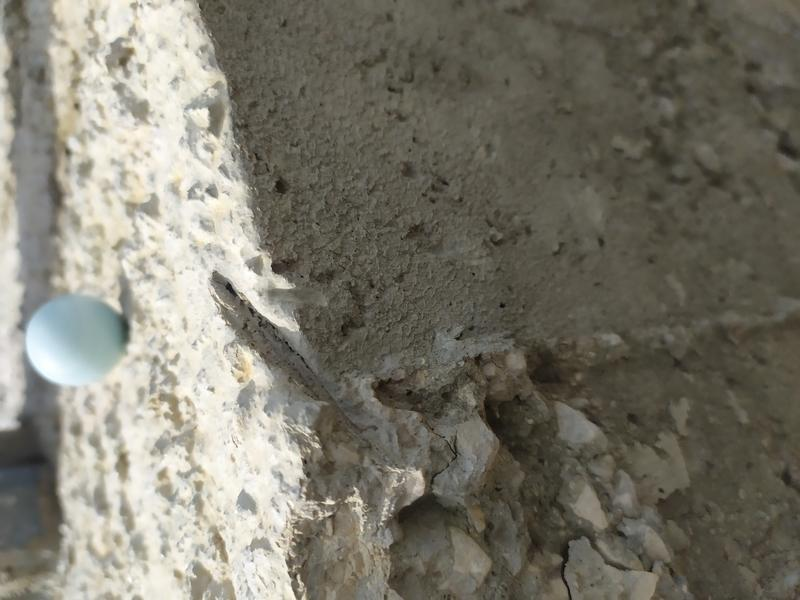Warning: (22, 291, 130, 390)
